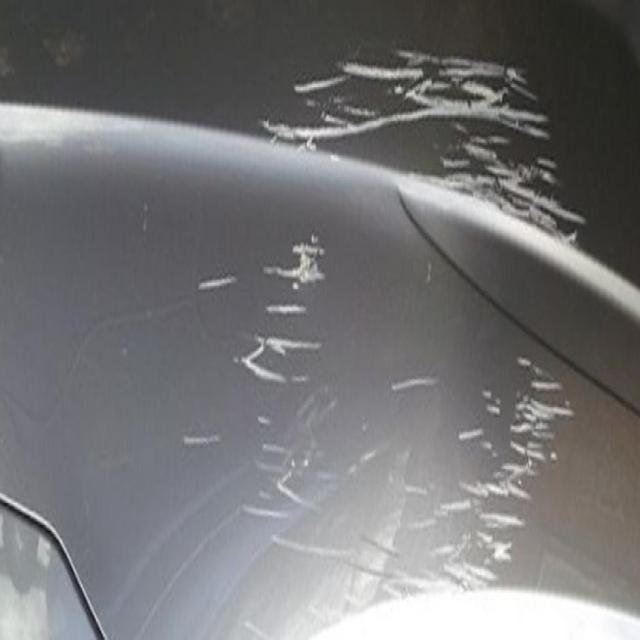scratch: (214, 34, 616, 640)
